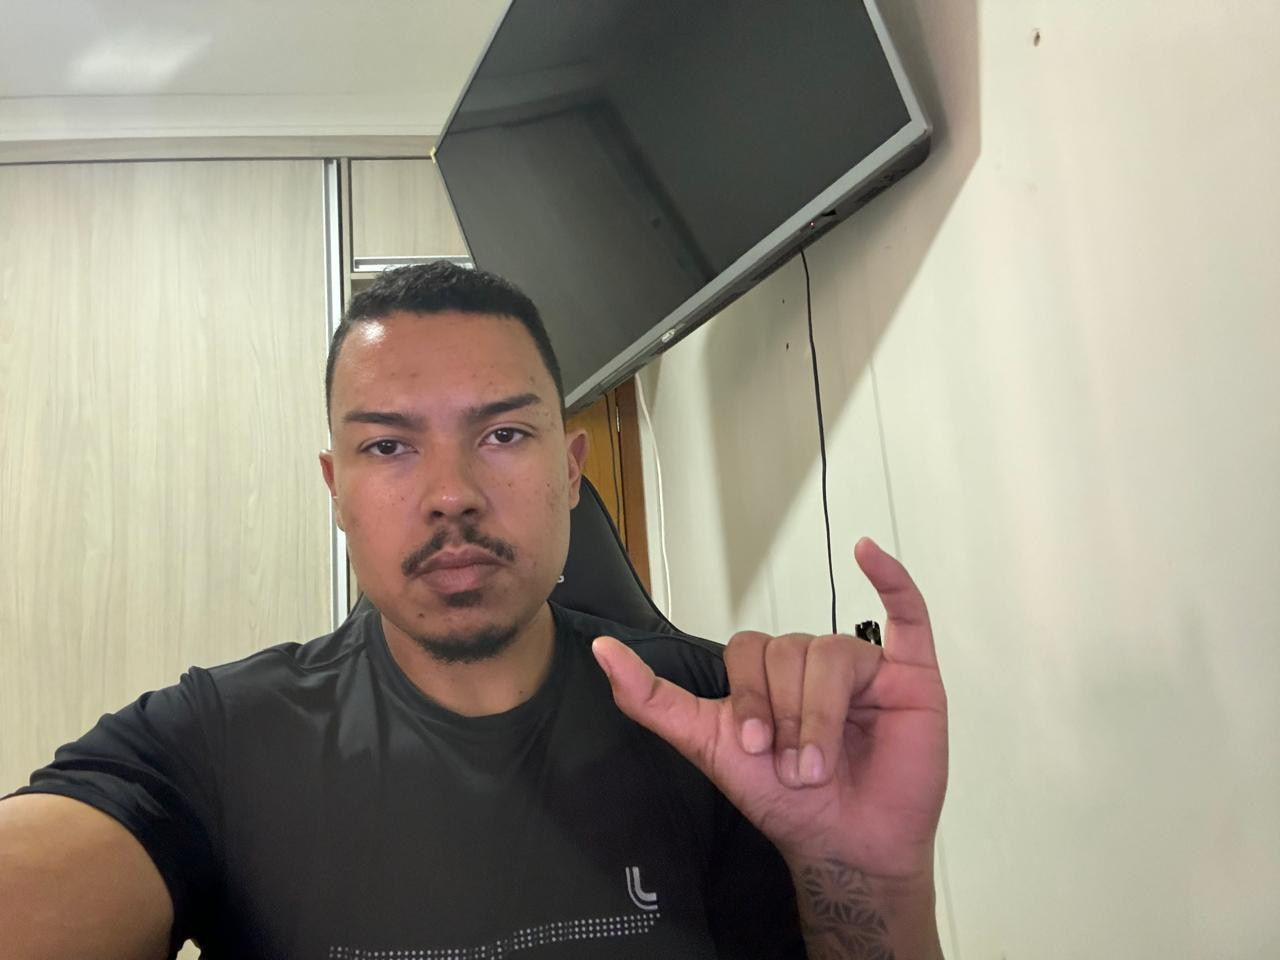y: (578, 532, 952, 885)
